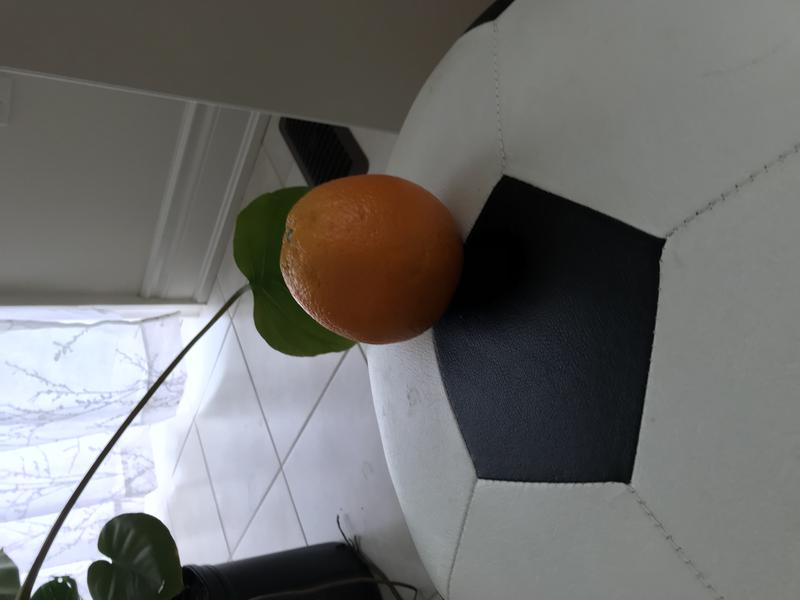orange: (266, 169, 478, 349)
